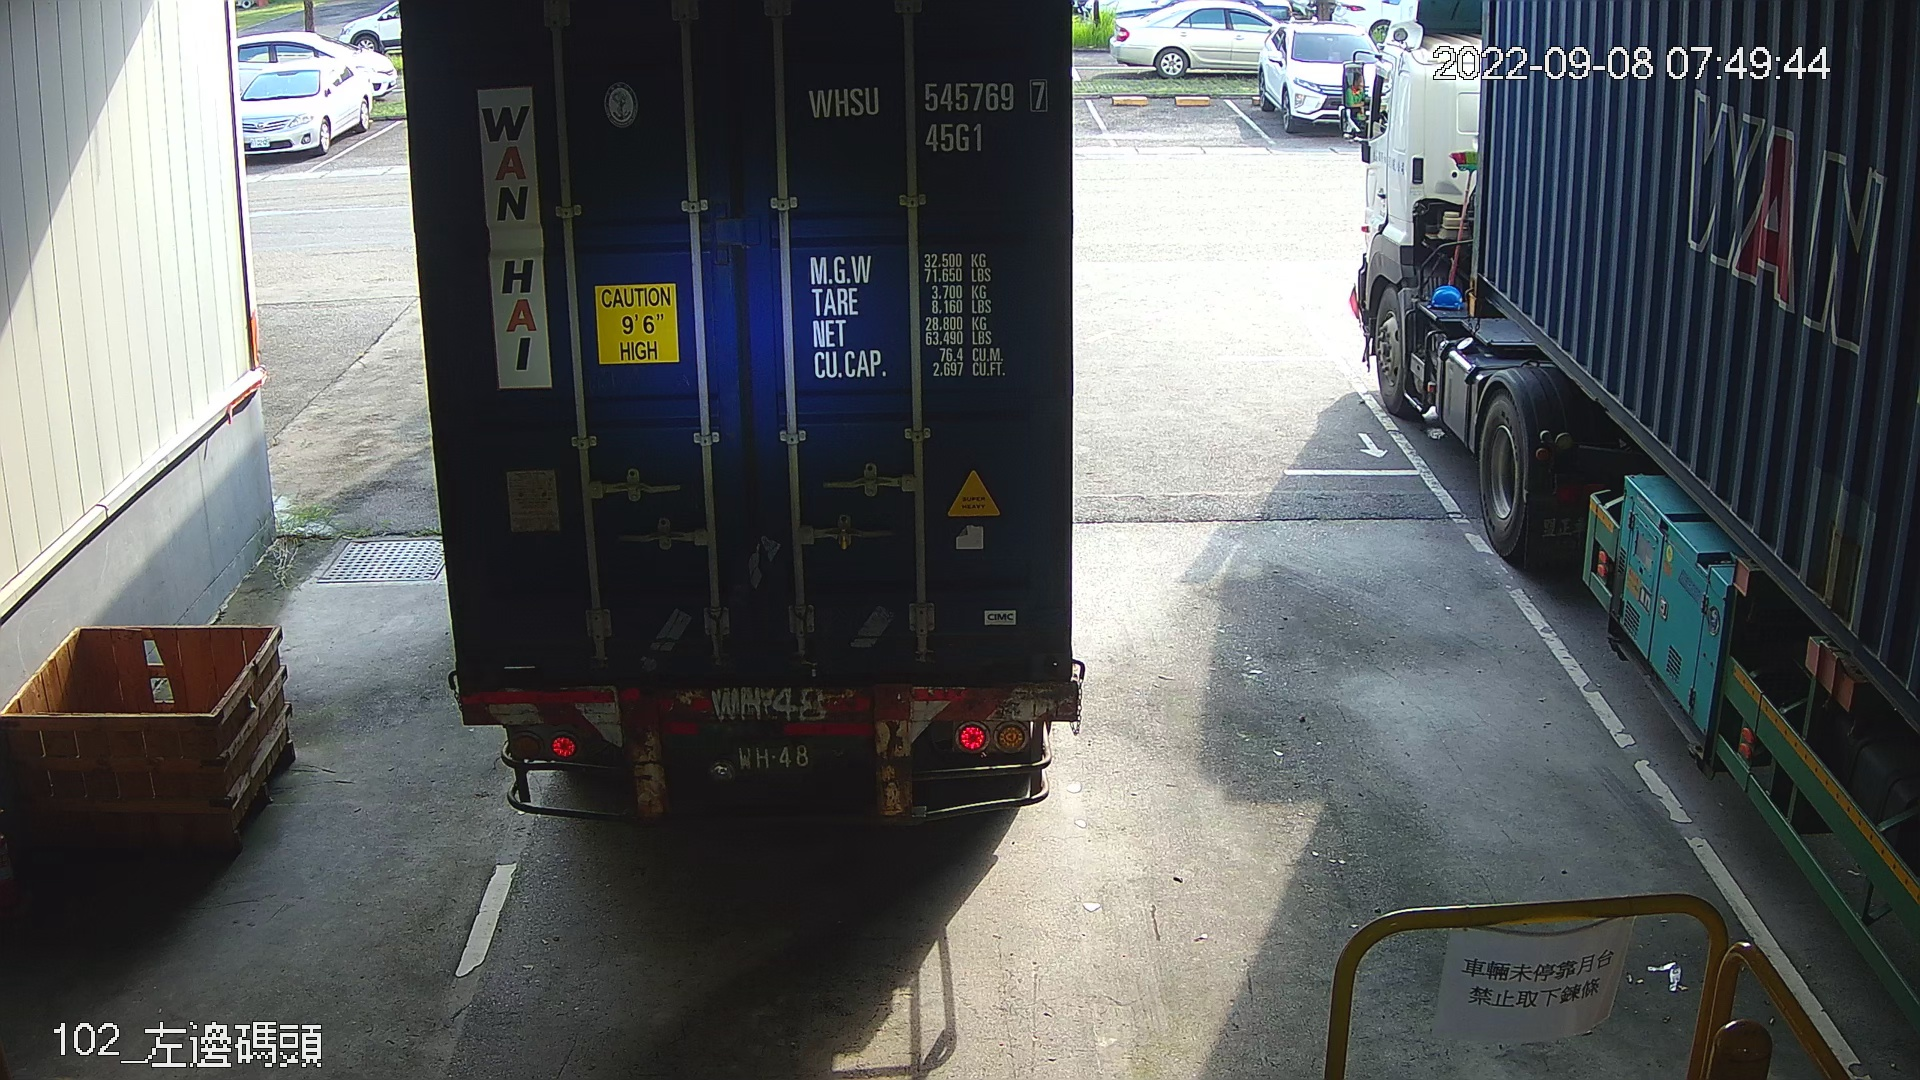container: (800, 73, 1058, 160)
